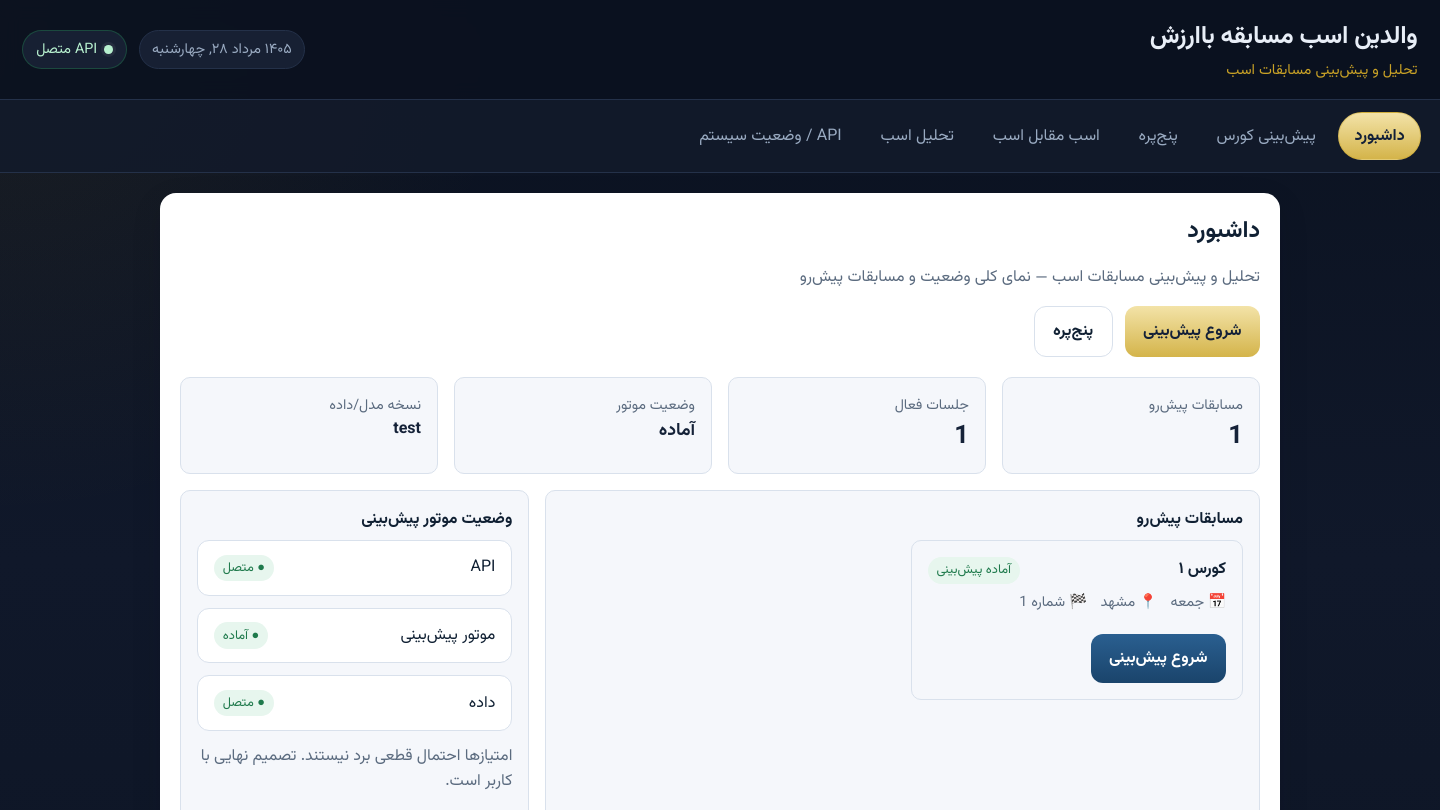
App dashboard › renders race prediction flow with mocked API
Step 1. Click the button "پیش‌بینی کورس" → x=1266, y=136, box [1200, 112, 1332, 160]
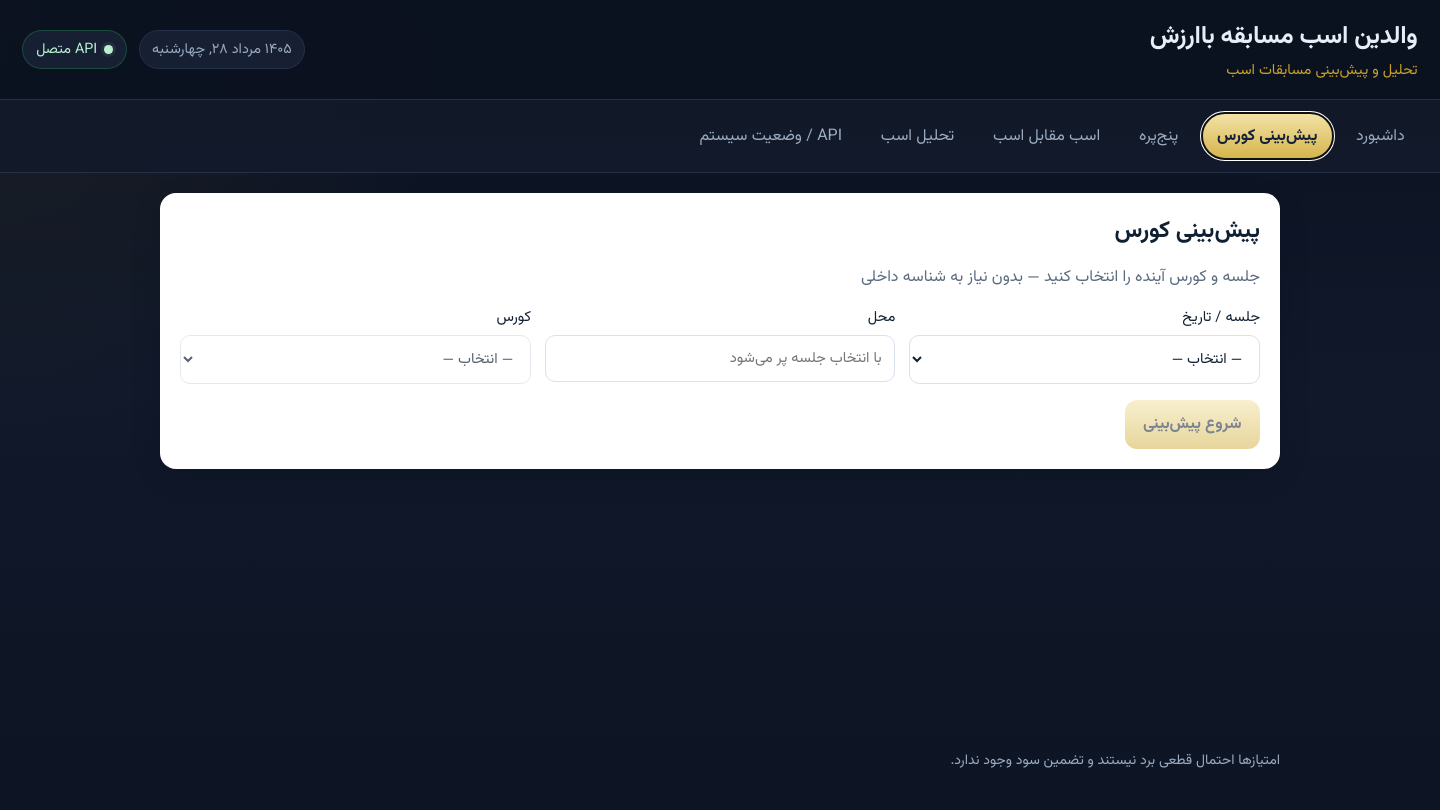
Expected: the text "API متصل" is shown, [36, 38, 97, 61]
Step 2. Select "جمعه · مشهد" in the dropdown labelled "جلسه / تاریخ" → x=1085, y=360, box [909, 335, 1260, 384]
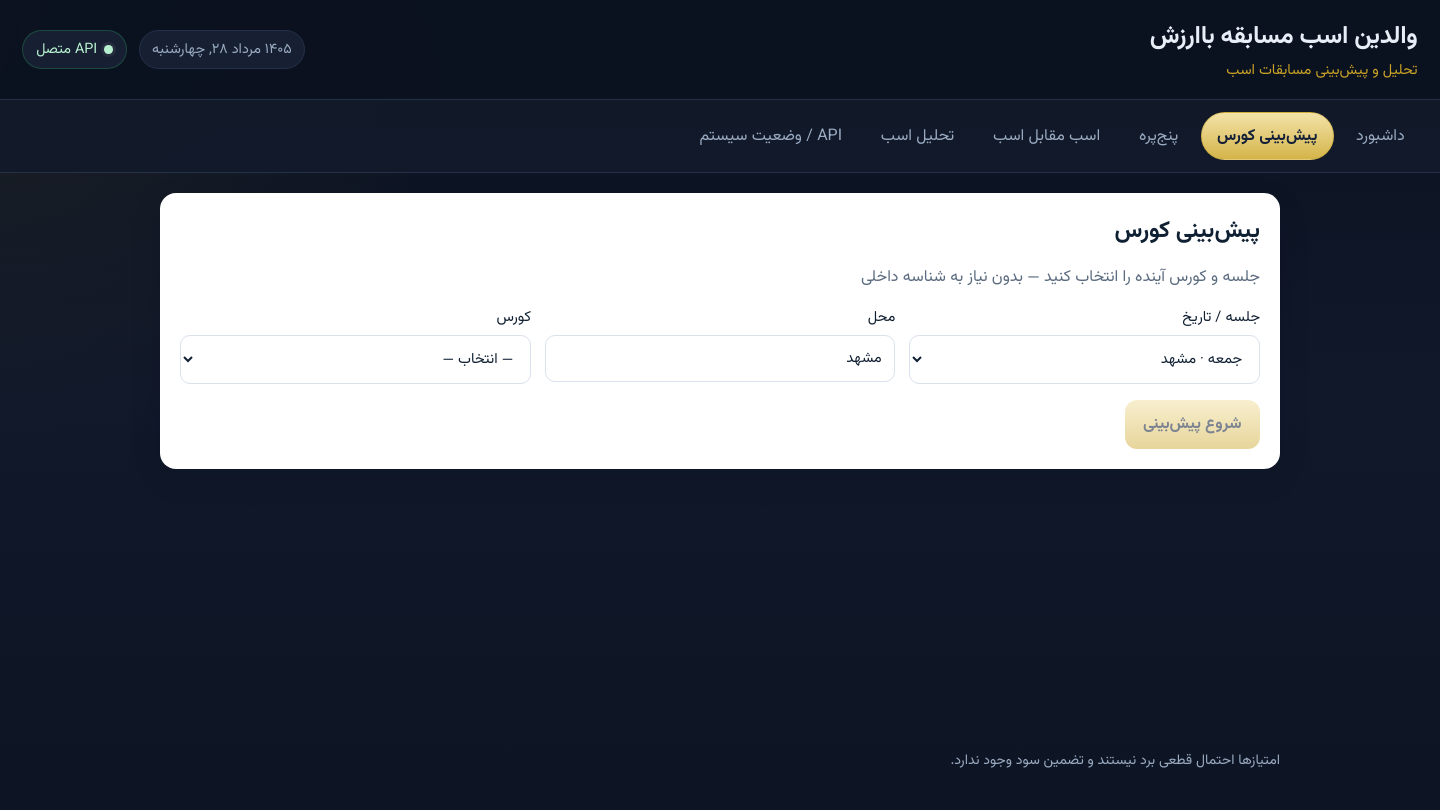
Step 3. Select "کورس ۱" in the dropdown labelled "کورس" → x=355, y=360, box [180, 335, 531, 384]
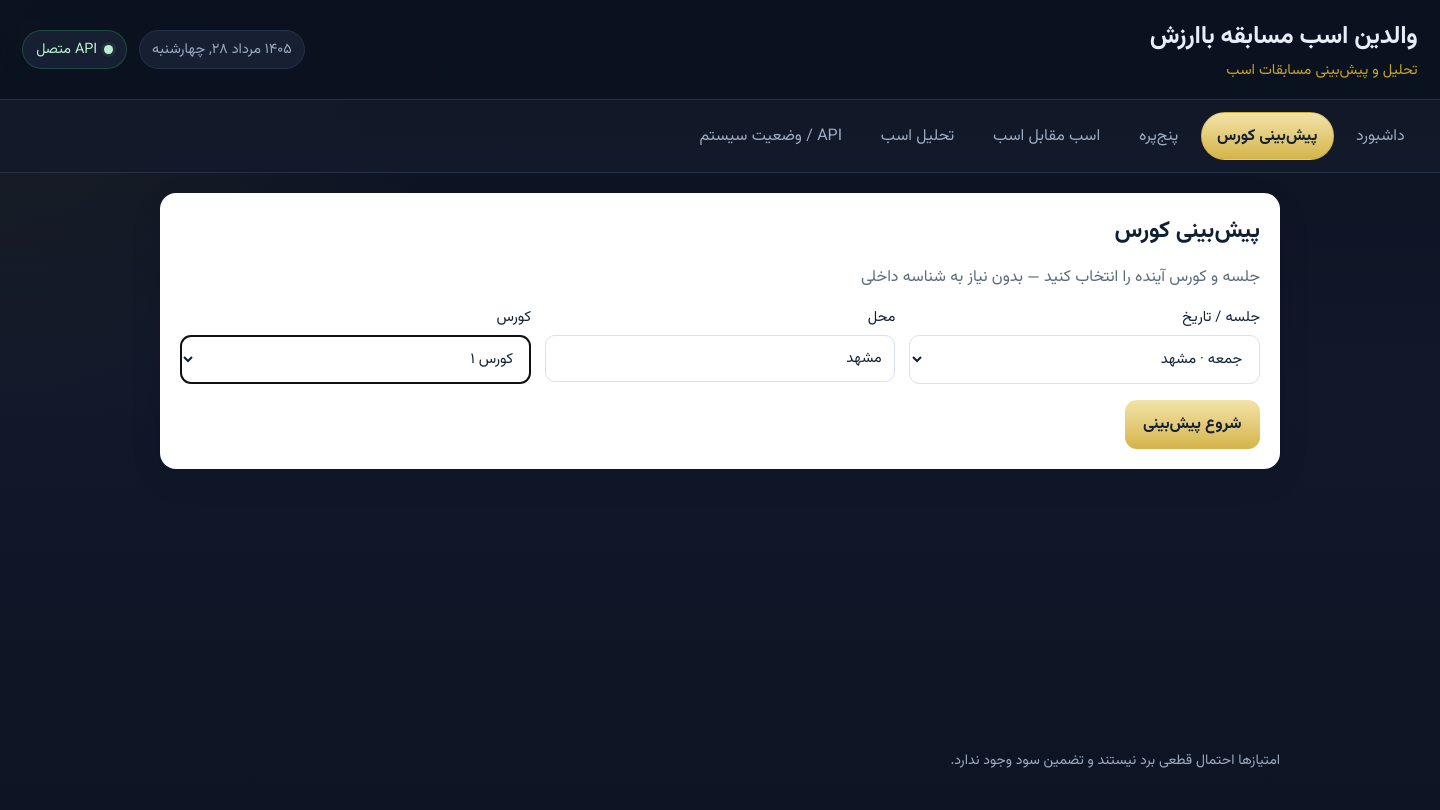
Step 4. Click the button "شروع پیش‌بینی" → x=1192, y=425, box [1125, 400, 1260, 449]
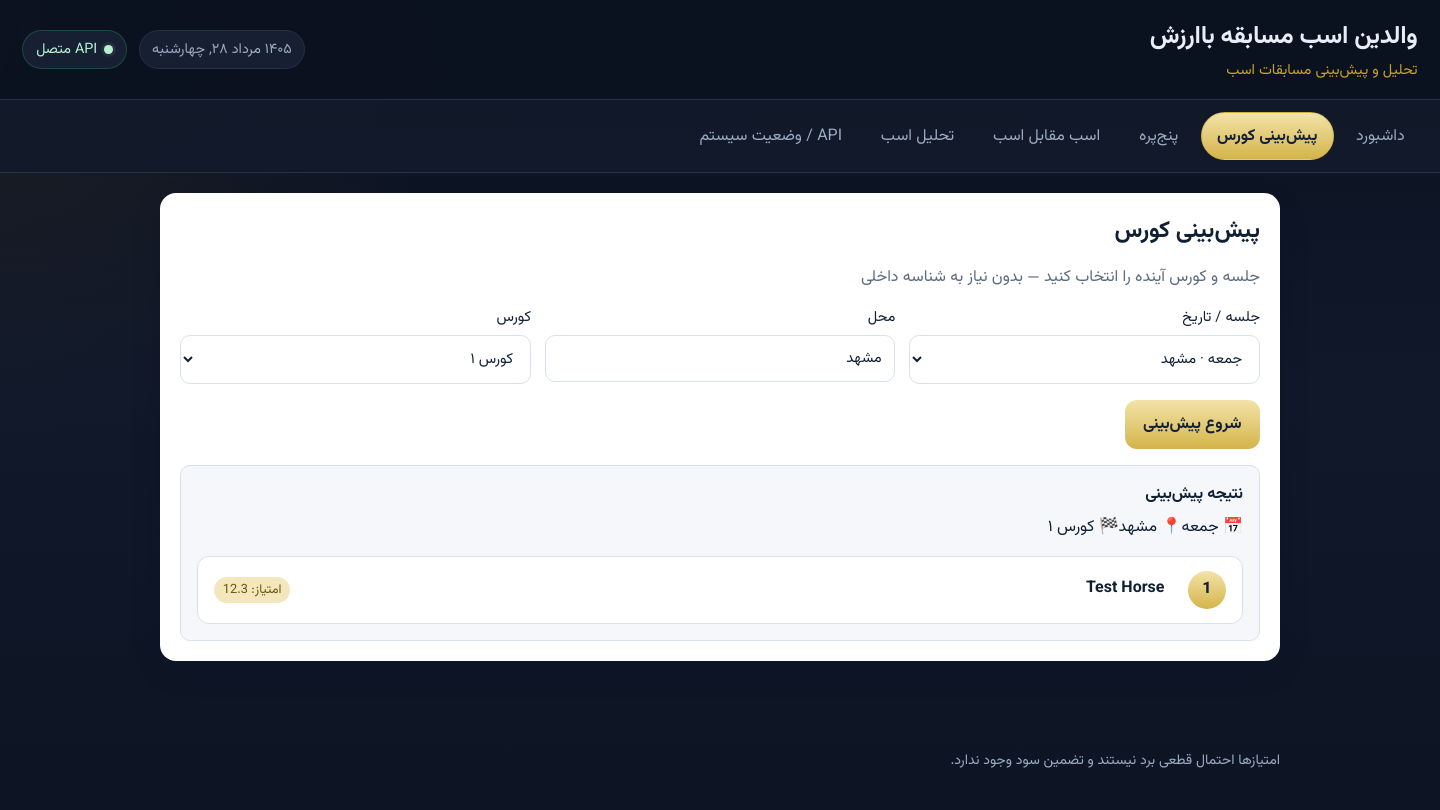
Now the text "Test Horse" is shown, box [1086, 576, 1164, 601]
Now the text "امتیاز: 12.3" is shown, box [214, 577, 290, 603]
